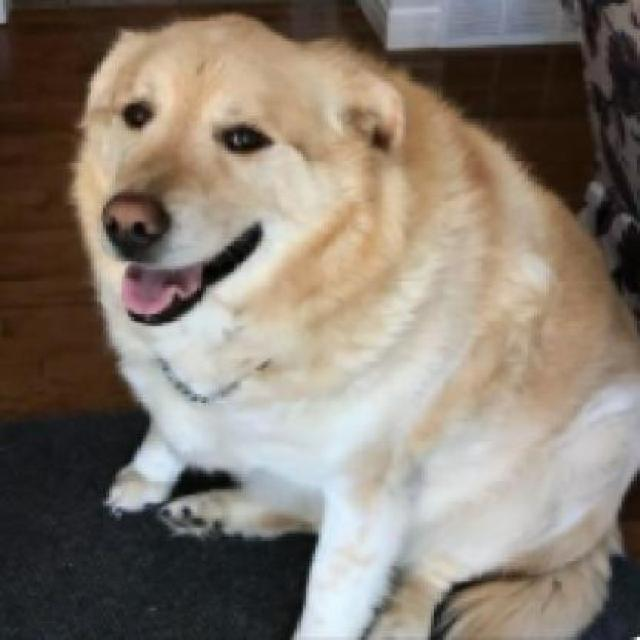Dog: (66, 15, 637, 637)
